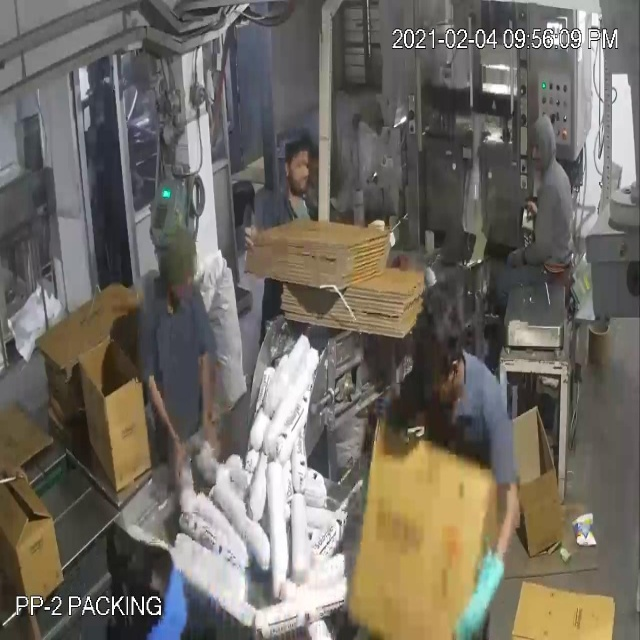Guantes: (446, 524, 511, 640)
Sin_guantes: (139, 356, 195, 494), (185, 334, 228, 491)
